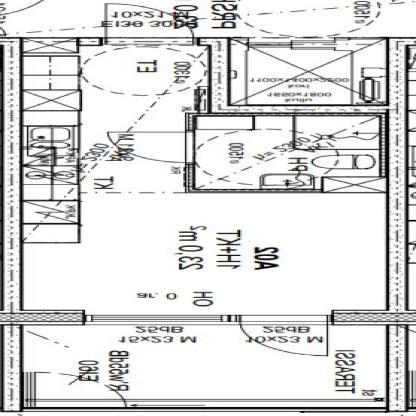door: (88, 0, 203, 47), (9, 372, 133, 410), (239, 310, 337, 358), (104, 128, 198, 164)
window: (70, 310, 237, 328), (234, 35, 310, 55)
